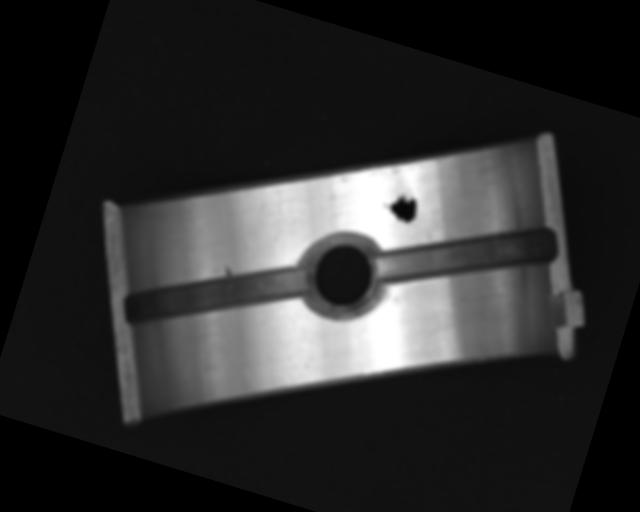blot: (379, 181, 424, 226)
bruise: (221, 264, 235, 279)
gap: (120, 220, 310, 367), (374, 182, 561, 324)
hole: (294, 226, 389, 325)
